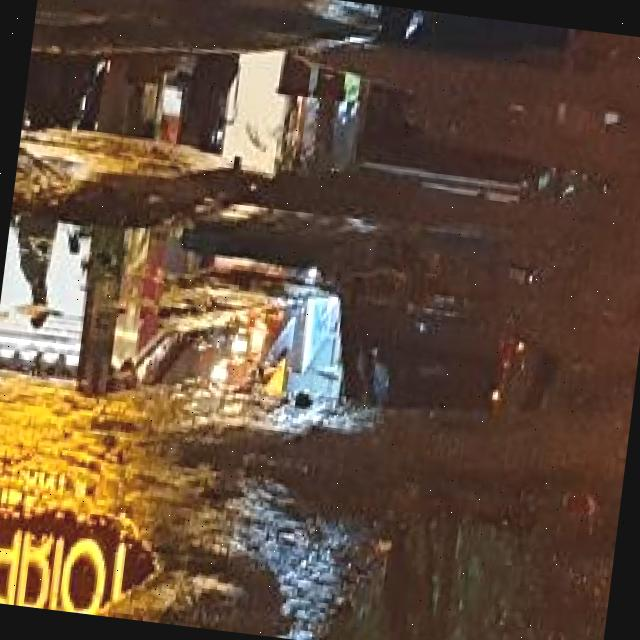waterlogging: (0, 172, 548, 474)
